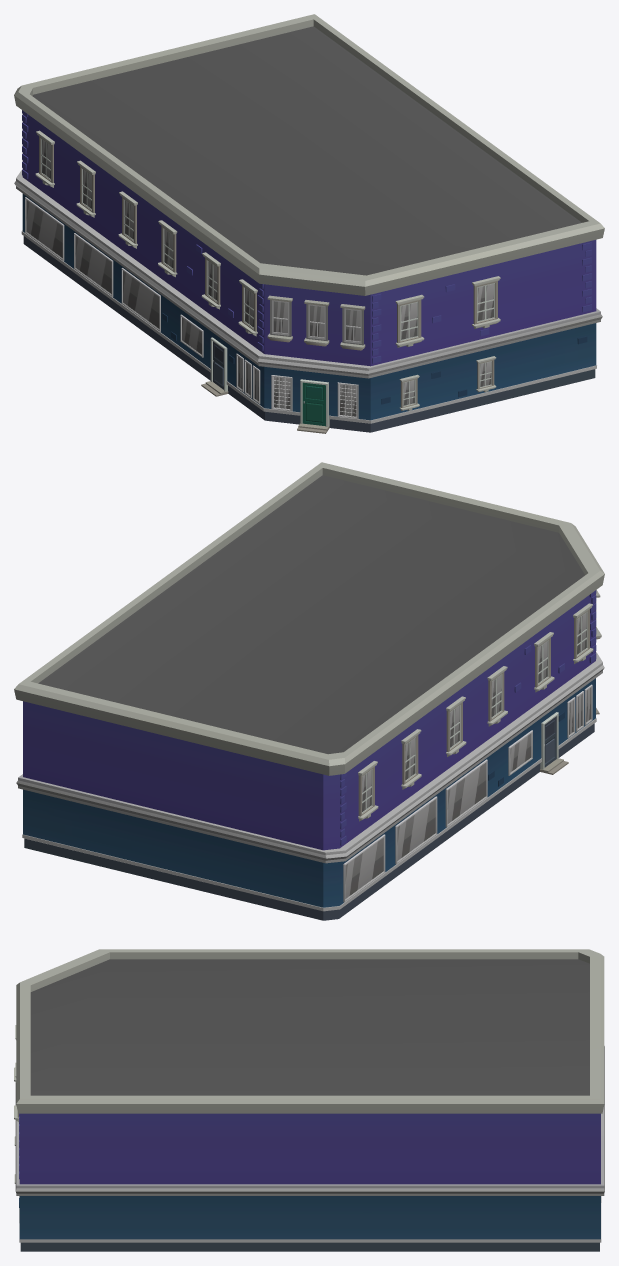
File: Building_25_11_E.fbx
3 renders of one model, top to bottom at view 1: azimuth 30°, elevation 25°; view 2: azimuth 150°, elevation 25°; view 3: azimuth 270°, elevation 25°, orthographic. The views are drawn at different scales.
Parts seen in each view (by area): view 1: Building_25_11_E; view 2: Building_25_11_E; view 3: Building_25_11_E.
Part boxes in pixels (x1,y1,x2,y2): Building_25_11_E: (14, 14, 604, 433); Building_25_11_E: (14, 462, 604, 920); Building_25_11_E: (14, 949, 604, 1251).
Size of the model in its own units: 1683 by 793 by 2729.
